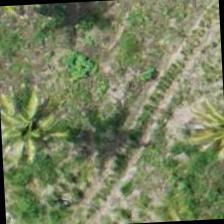Kelapa_Sawit: (0, 81, 64, 175)
